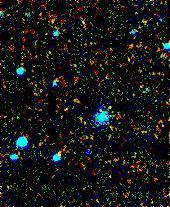star: (93, 93, 123, 123)
